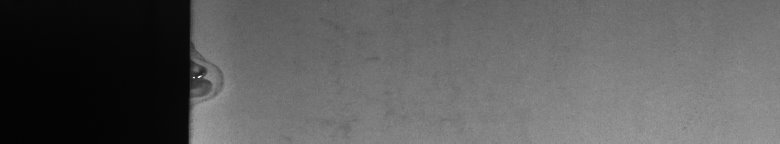hb: (200, 52, 229, 107)
